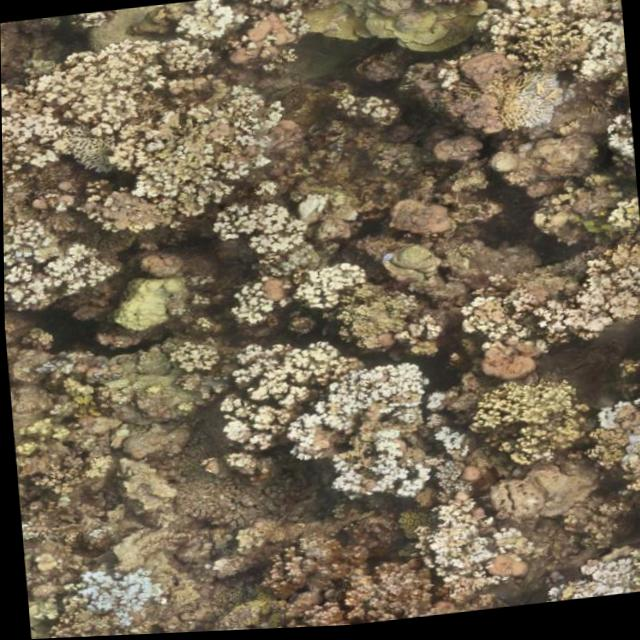Bleached Coral: (213, 348, 433, 456), (326, 430, 437, 513), (3, 224, 97, 311), (72, 559, 164, 635), (55, 109, 131, 198), (497, 71, 571, 160), (586, 400, 640, 459)
